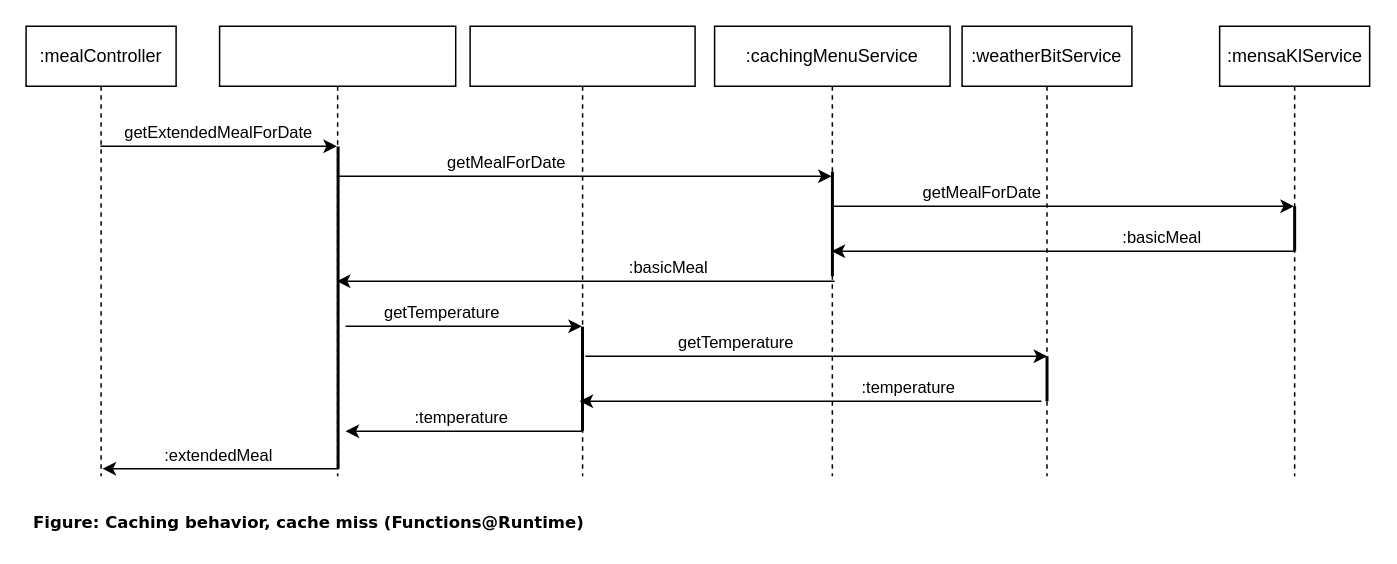
This 1397x564 diagram has some shape labels left out. Here are the shapes that lost their labels. From the top down, the box of each, then its label:
(218, 25, 456, 476): :mealService
(469, 25, 695, 476): :cachingWeatherService
